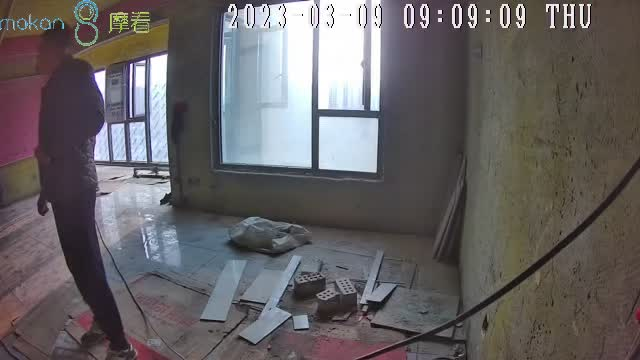people: (36, 22, 138, 360)
window: (214, 1, 385, 179), (99, 52, 168, 168)
